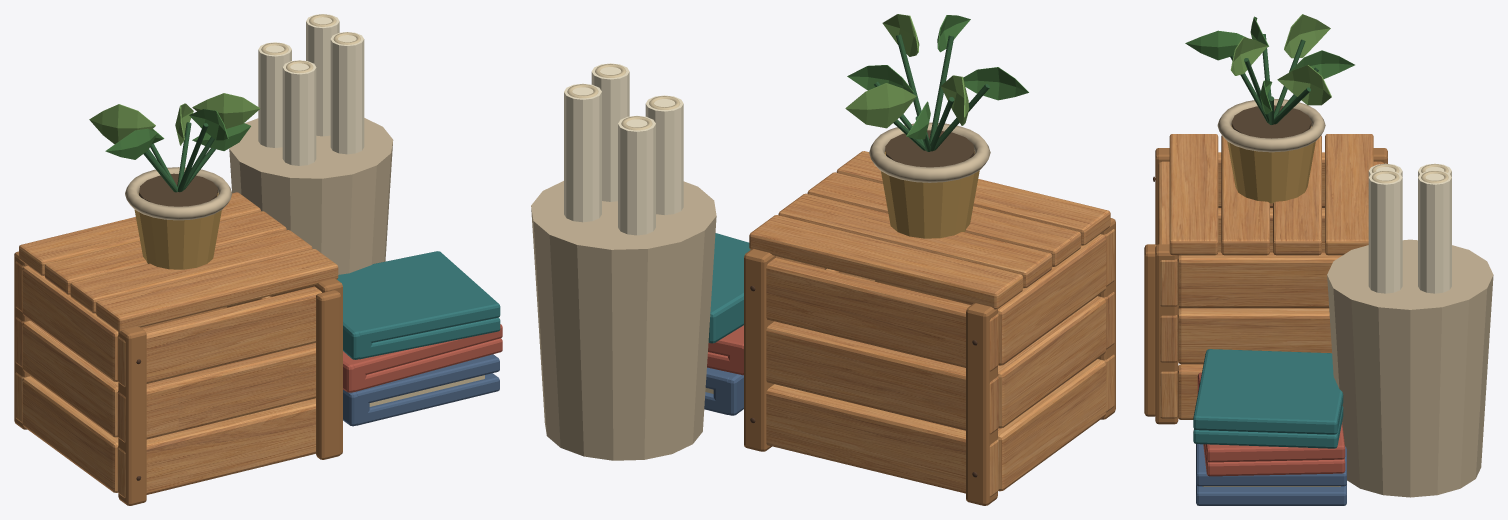
The picture shows the model from 3 angles, left to right: view 1: azimuth 30°, elevation 25°; view 2: azimuth 150°, elevation 25°; view 3: azimuth 270°, elevation 25°; orthographic projection. The views are drawn at different scales.
Parts seen in each view (by area): view 1: loft_oak, loft_ceramic, loft_teal, loft_paper, loft_wood, loft_blue, loft_red, loft_ochre, loft_leaf_light, loft_leaf, loft_soil, loft_leaf_dark (+1 smaller); view 2: loft_oak, loft_ceramic, loft_paper, loft_wood, loft_ochre, loft_leaf_light, loft_leaf, loft_teal, loft_leaf_dark, loft_soil, loft_blue, loft_red (+1 smaller); view 3: loft_oak, loft_ceramic, loft_teal, loft_paper, loft_blue, loft_red, loft_wood, loft_ochre, loft_leaf_light, loft_leaf, loft_soil, loft_leaf_dark (+1 smaller).
Boxes of the visible parts, x1=… form: loft_oak: x1=15, y1=192, x2=338, y2=497; loft_ceramic: x1=125, y1=118, x2=393, y2=274; loft_teal: x1=337, y1=251, x2=500, y2=359; loft_paper: x1=258, y1=14, x2=364, y2=165; loft_wood: x1=14, y1=251, x2=342, y2=505; loft_blue: x1=343, y1=354, x2=499, y2=426; loft_red: x1=343, y1=324, x2=502, y2=392; loft_ochre: x1=134, y1=193, x2=221, y2=269; loft_leaf_light: x1=89, y1=93, x2=260, y2=145; loft_leaf: x1=105, y1=109, x2=250, y2=159; loft_soil: x1=139, y1=173, x2=217, y2=206; loft_leaf_dark: x1=143, y1=122, x2=215, y2=192; loft_oak: x1=749, y1=151, x2=1114, y2=497; loft_ceramic: x1=531, y1=122, x2=990, y2=460; loft_paper: x1=564, y1=63, x2=683, y2=235; loft_wood: x1=744, y1=218, x2=1115, y2=505; loft_ochre: x1=881, y1=151, x2=979, y2=238; loft_leaf_light: x1=845, y1=14, x2=969, y2=128; loft_leaf: x1=847, y1=15, x2=1028, y2=139; loft_teal: x1=708, y1=233, x2=750, y2=343; loft_leaf_dark: x1=874, y1=34, x2=989, y2=151; loft_soil: x1=885, y1=130, x2=974, y2=167; loft_blue: x1=704, y1=367, x2=743, y2=415; loft_red: x1=707, y1=325, x2=743, y2=375; loft_oak: x1=1158, y1=134, x2=1383, y2=419; loft_ceramic: x1=1217, y1=98, x2=1493, y2=497; loft_teal: x1=1193, y1=349, x2=1343, y2=448; loft_paper: x1=1368, y1=163, x2=1451, y2=293; loft_blue: x1=1196, y1=444, x2=1346, y2=505; loft_red: x1=1197, y1=372, x2=1345, y2=476; loft_wood: x1=1144, y1=148, x2=1387, y2=424; loft_ochre: x1=1227, y1=125, x2=1315, y2=203; loft_leaf_light: x1=1230, y1=14, x2=1331, y2=105; loft_leaf: x1=1185, y1=16, x2=1354, y2=114; loft_soil: x1=1231, y1=105, x2=1311, y2=138; loft_leaf_dark: x1=1230, y1=34, x2=1318, y2=124.
Size of the model in its own units: 1.52 by 1.26 by 1.13.
Materials: 14 (1 with a texture image).
